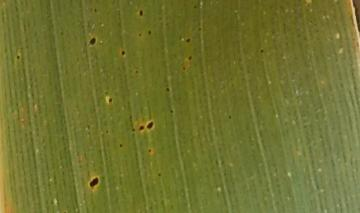tarspot: (87, 175, 101, 190), (85, 36, 99, 47), (145, 118, 156, 131), (137, 125, 147, 135), (119, 49, 128, 59), (138, 7, 146, 18), (168, 106, 176, 115), (227, 112, 234, 122), (106, 95, 113, 104), (183, 37, 192, 44), (137, 30, 144, 39), (118, 142, 125, 151), (145, 29, 153, 36), (164, 86, 172, 93), (146, 147, 152, 155), (187, 55, 194, 61), (260, 47, 266, 54), (15, 54, 22, 59)
